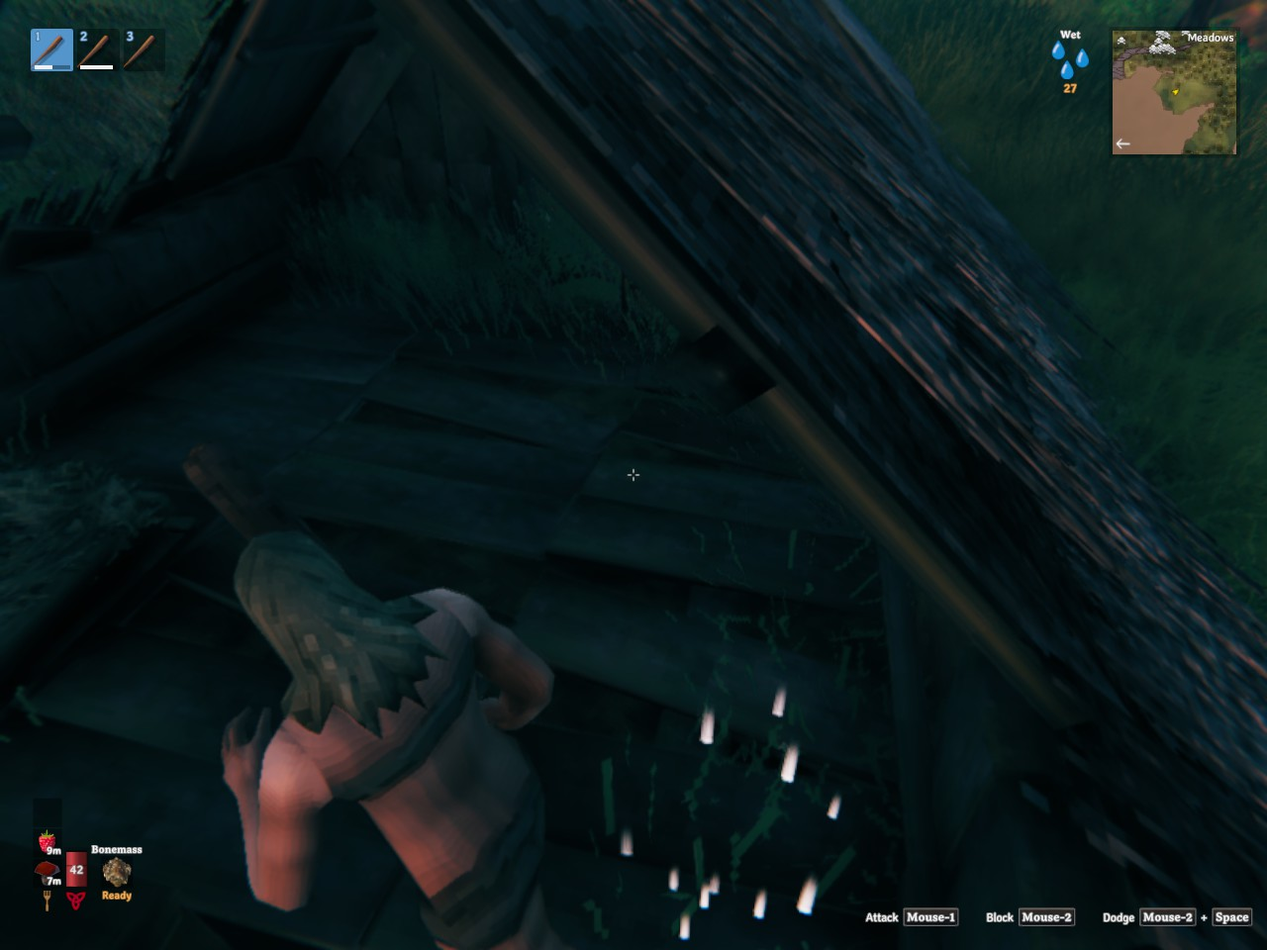Bed: (1, 439, 177, 694)
Food Indicator: (36, 797, 63, 891)
Health Bar: (63, 820, 90, 891)
Hotbar: (24, 21, 195, 80)
Status Indicator: (1034, 26, 1109, 100)
